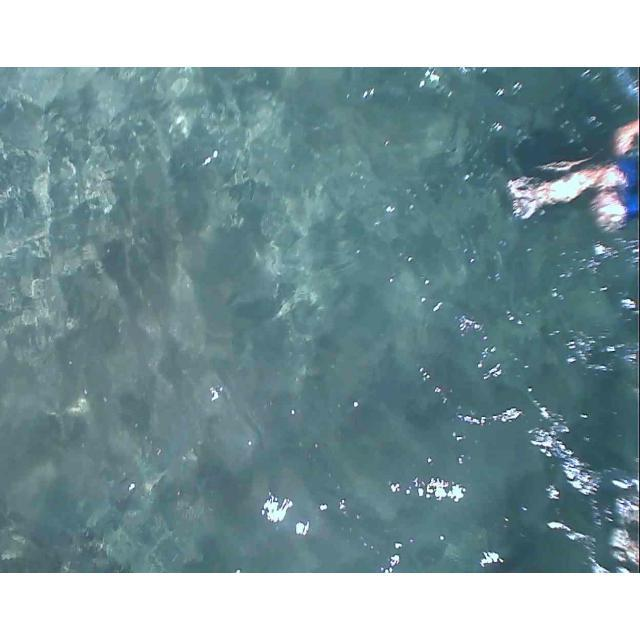human: (499, 106, 632, 266)
